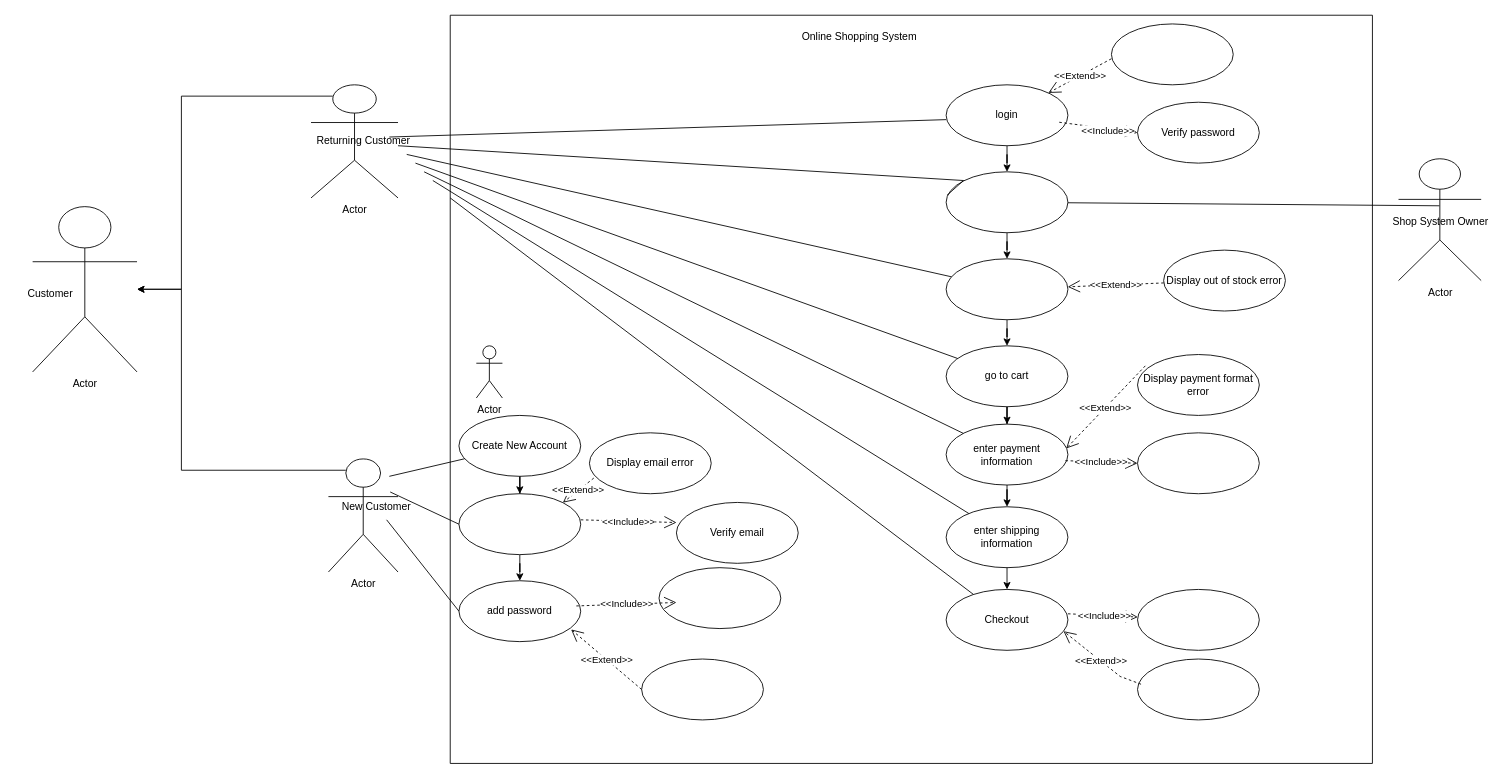
Image size: 1511x779. Some labels were removed from this diagram. The centre of each missing label's shape, as x and y in pixels:
"add email" belongs at (x=519, y=524).
"add item to cart" belongs at (x=1006, y=289).
"Display funds error" belongs at (x=1198, y=689).
"Display login error" belongs at (x=1172, y=54).
"Display Password error" belongs at (x=702, y=689).
"Verify funds" belongs at (x=1198, y=619).
"Verify password requirement" belongs at (x=719, y=598).
"verify payment format" belongs at (x=1198, y=463).
"view catalogue" belongs at (x=1006, y=202).
